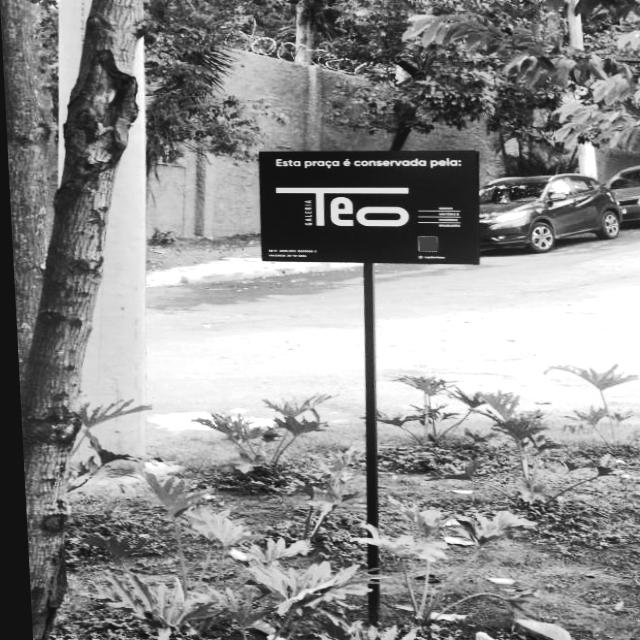qr_code: (417, 237, 434, 251)
